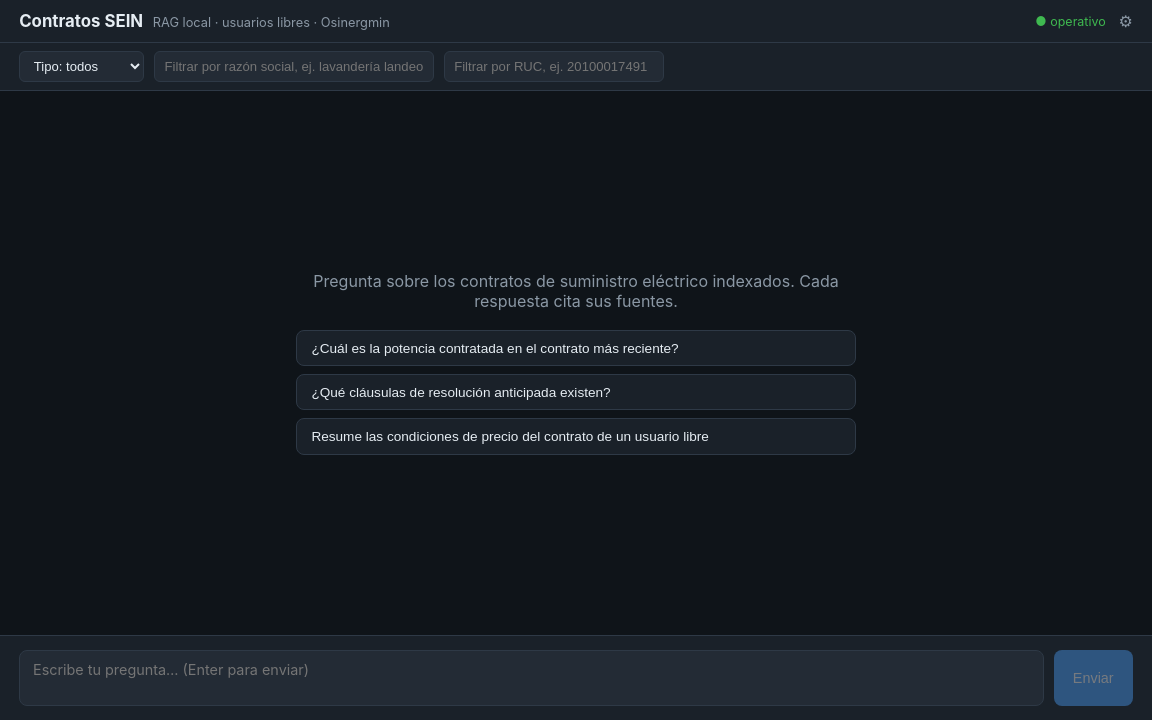
Test: App › reporta un 401 como problema de API key
The image size is (1152, 720).
Type "¿Potencia contratada?" into the text box with placeholder "Escribe tu pregunta… (Enter para enviar)" at (532, 678), box top-left (19, 650), bottom-right (1044, 706)
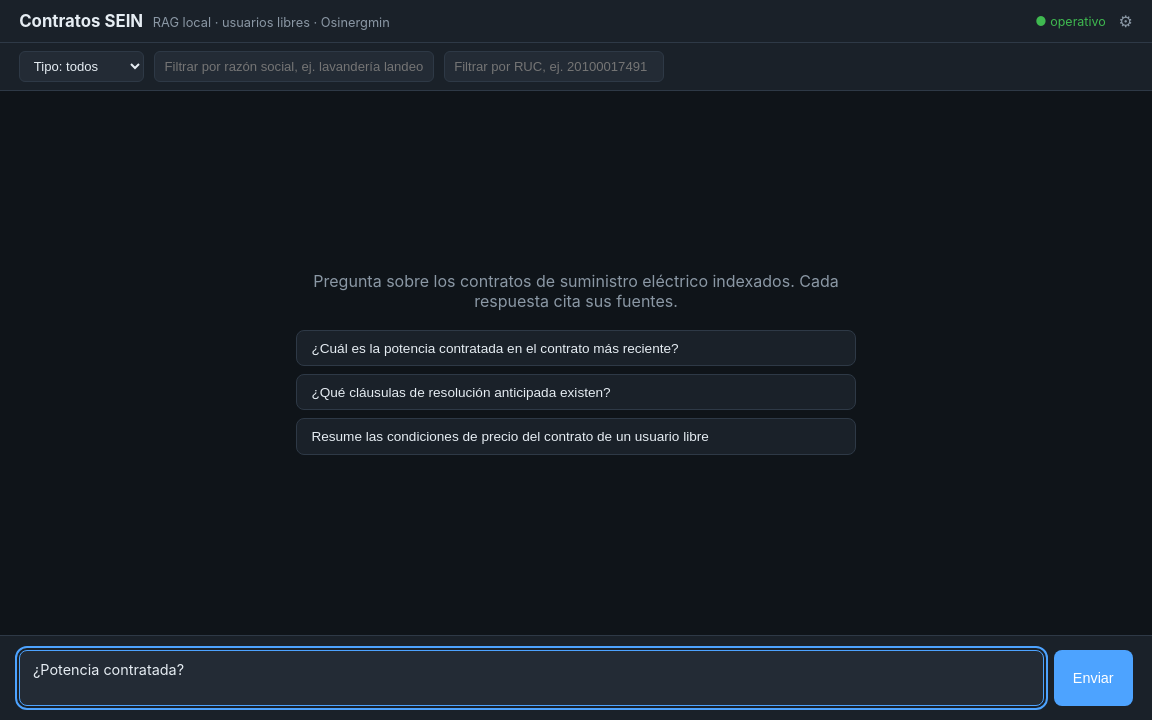
Click the button "Enviar" at (1093, 678), box top-left (1054, 650), bottom-right (1133, 706)
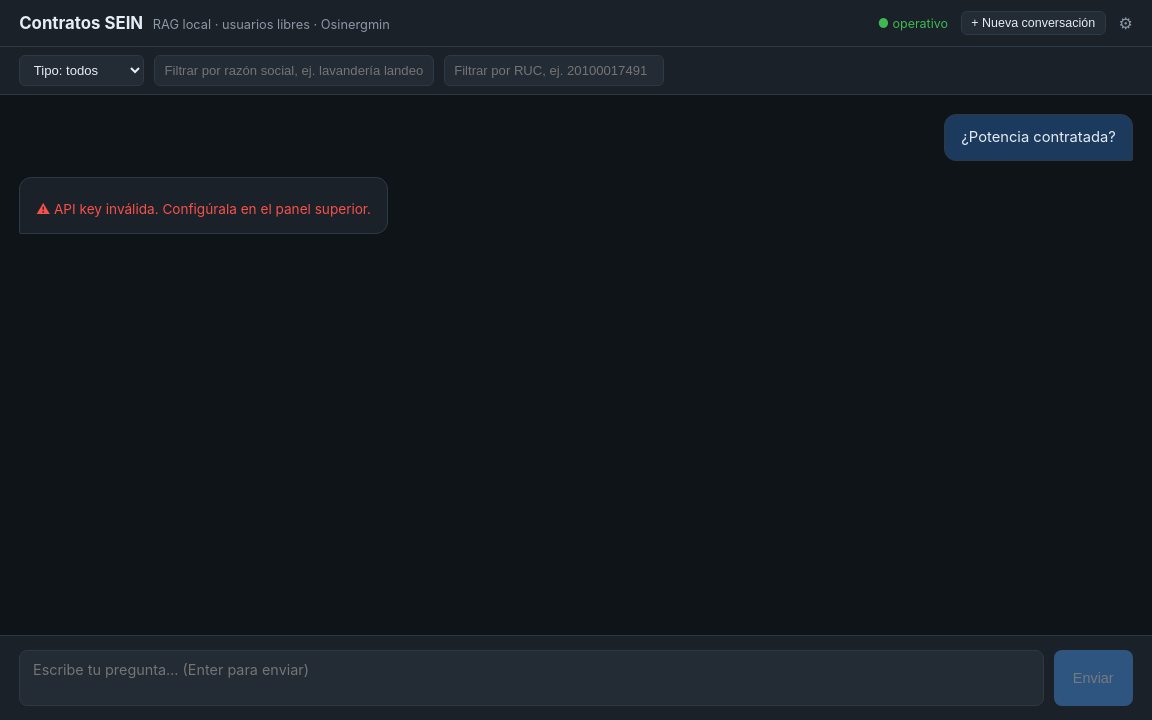
Now the text "⚠ API key inválida. Configúrala en el panel superior." is shown, box top-left (36, 199), bottom-right (371, 220)
